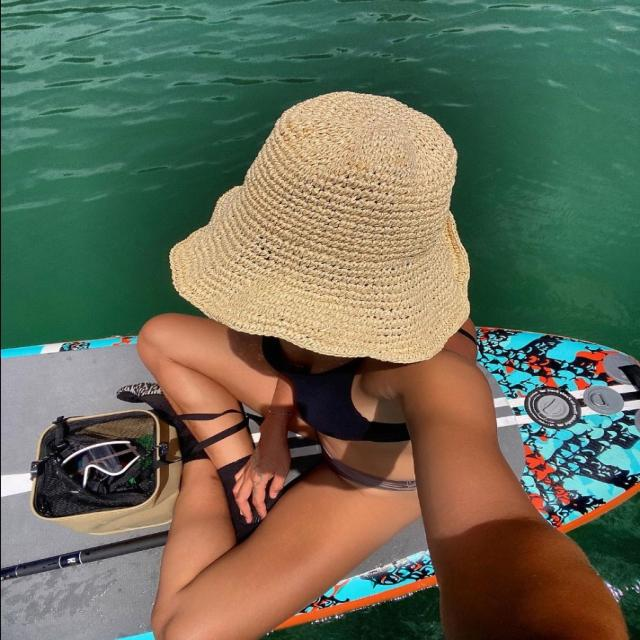illegal_helmet: (164, 86, 478, 371)
